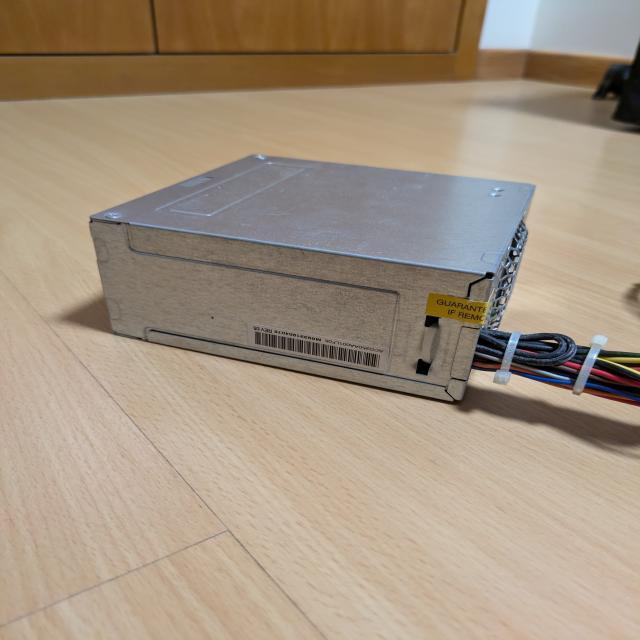PSU: (88, 153, 536, 406)
